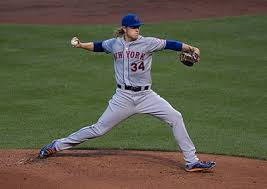baseball: (70, 37, 79, 47)
baseball player: (36, 12, 216, 173)
